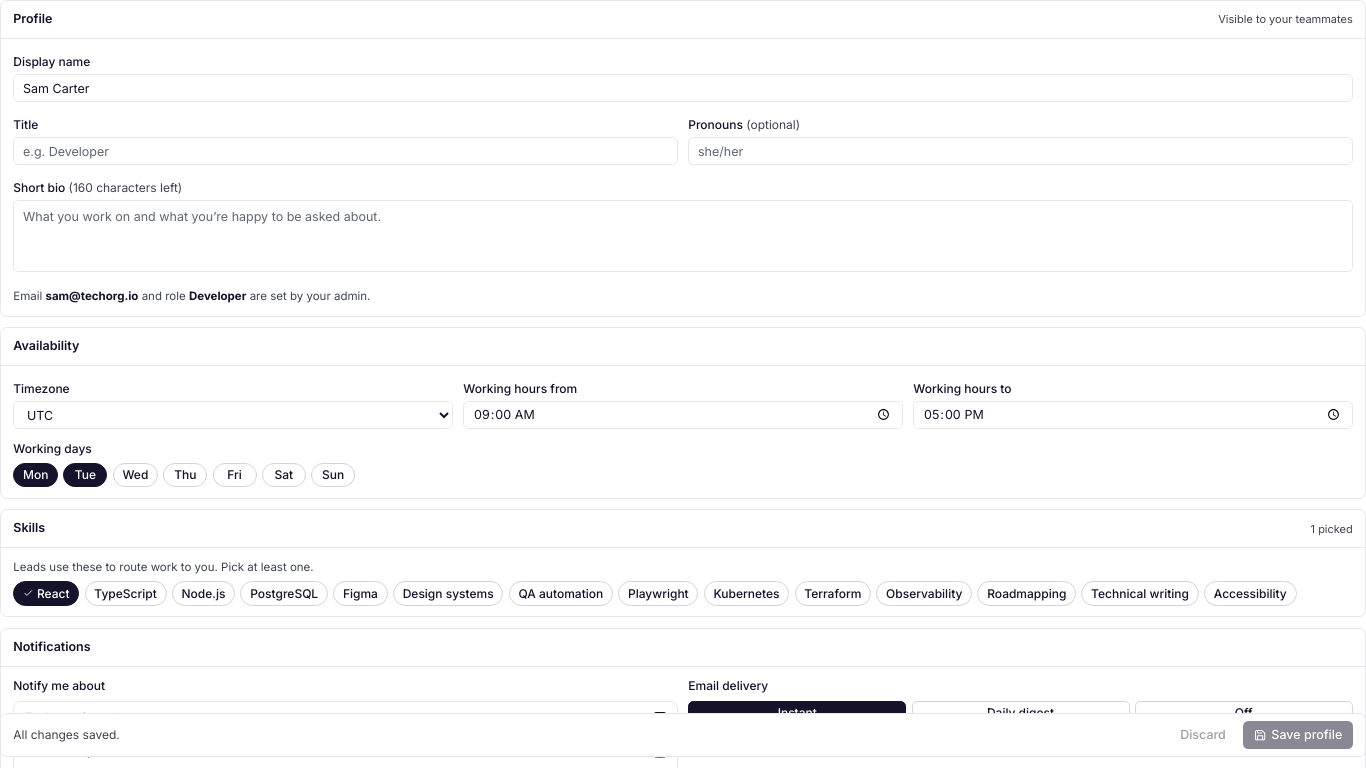
Test: ProfileSettings › shows the server refusal as an alert and never claims success
Step 1. Click the field labelled "Pronouns (optional)" → coordinates (1021, 151), box x1=688 y1=137 x2=1353 y2=165
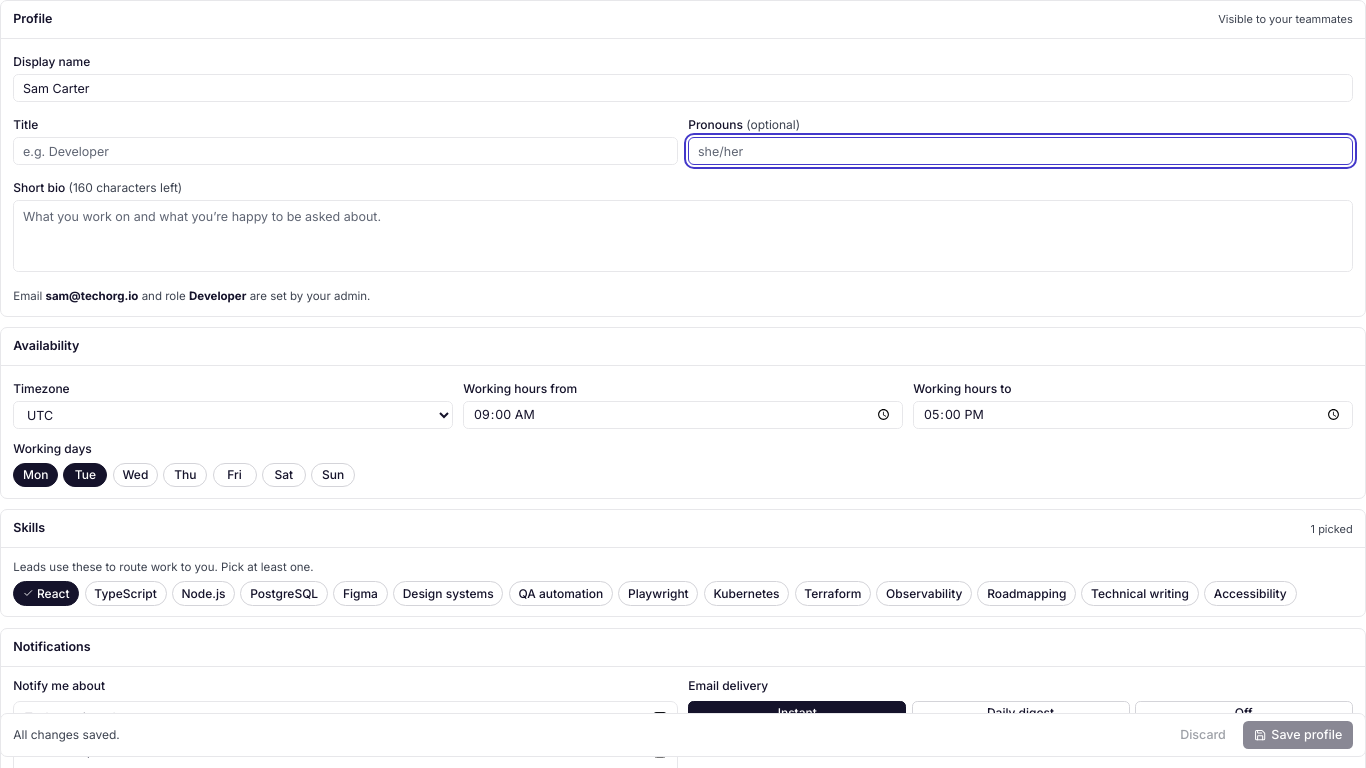
Step 2. Type keys "he/him"
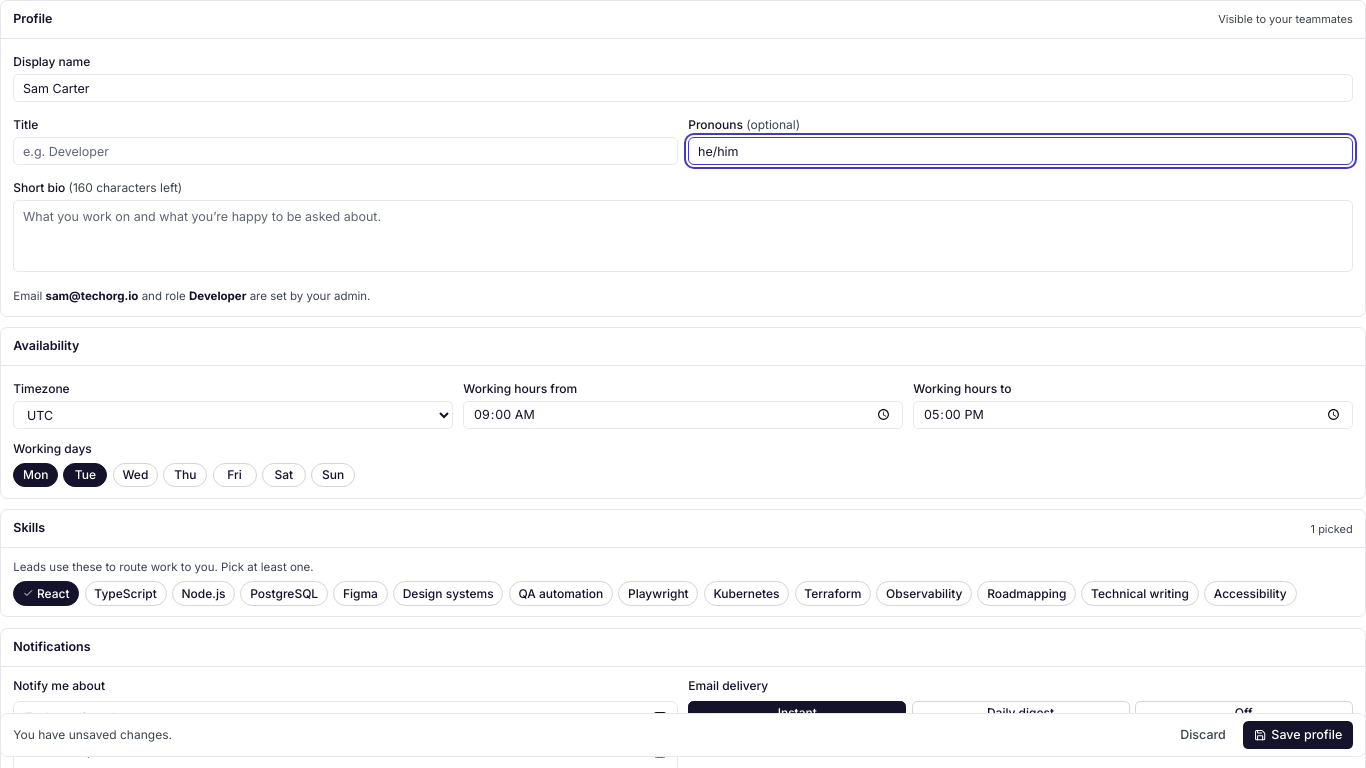
Step 3. Click the button "Save profile" → coordinates (1298, 736), box x1=1243 y1=722 x2=1353 y2=750
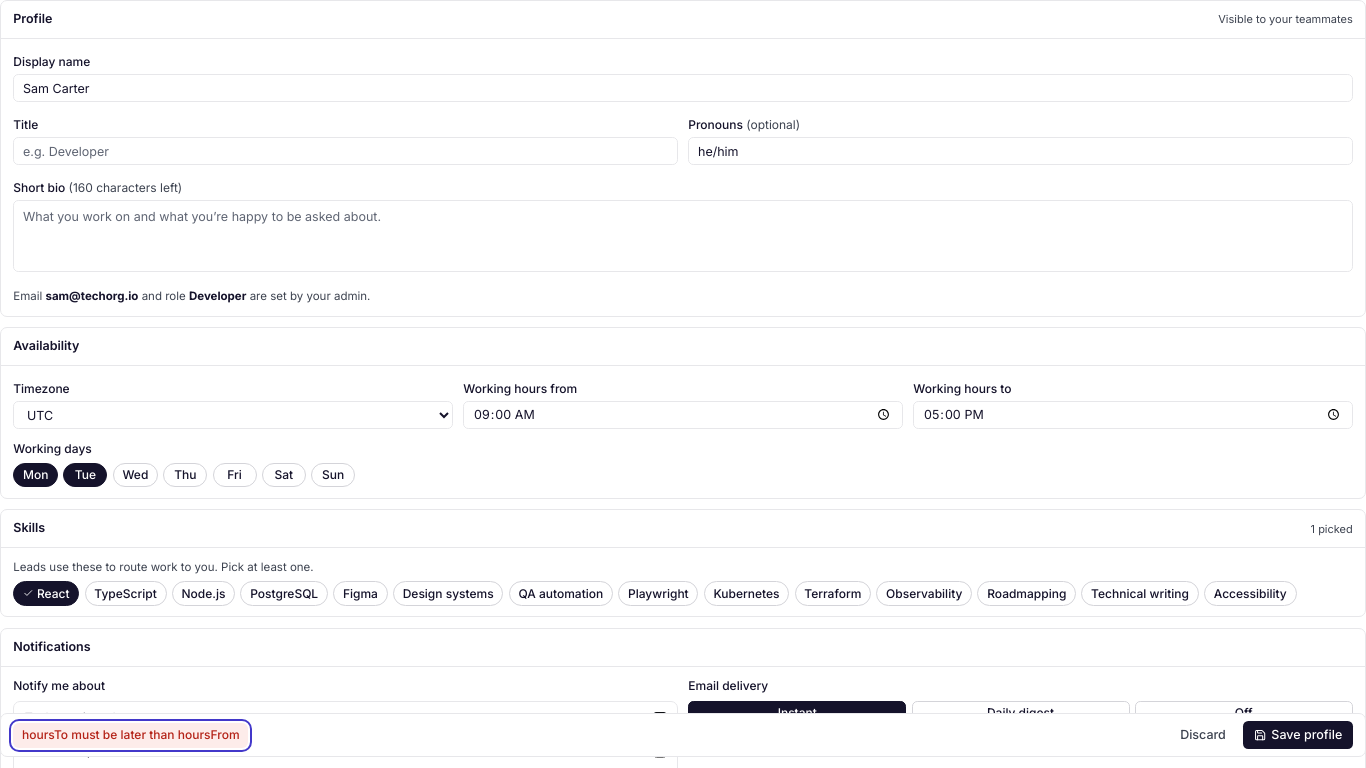
Now the message shows "hoursTo must be later", box x1=22 y1=728 x2=240 y2=742
